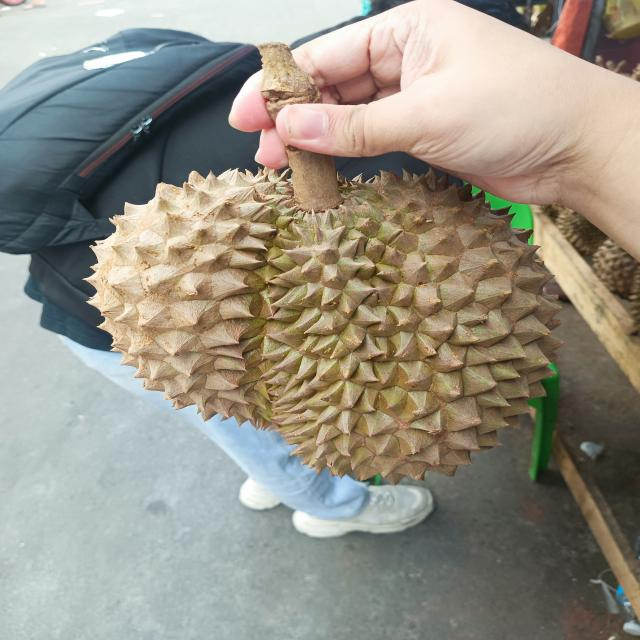mature: (80, 162, 566, 478)
